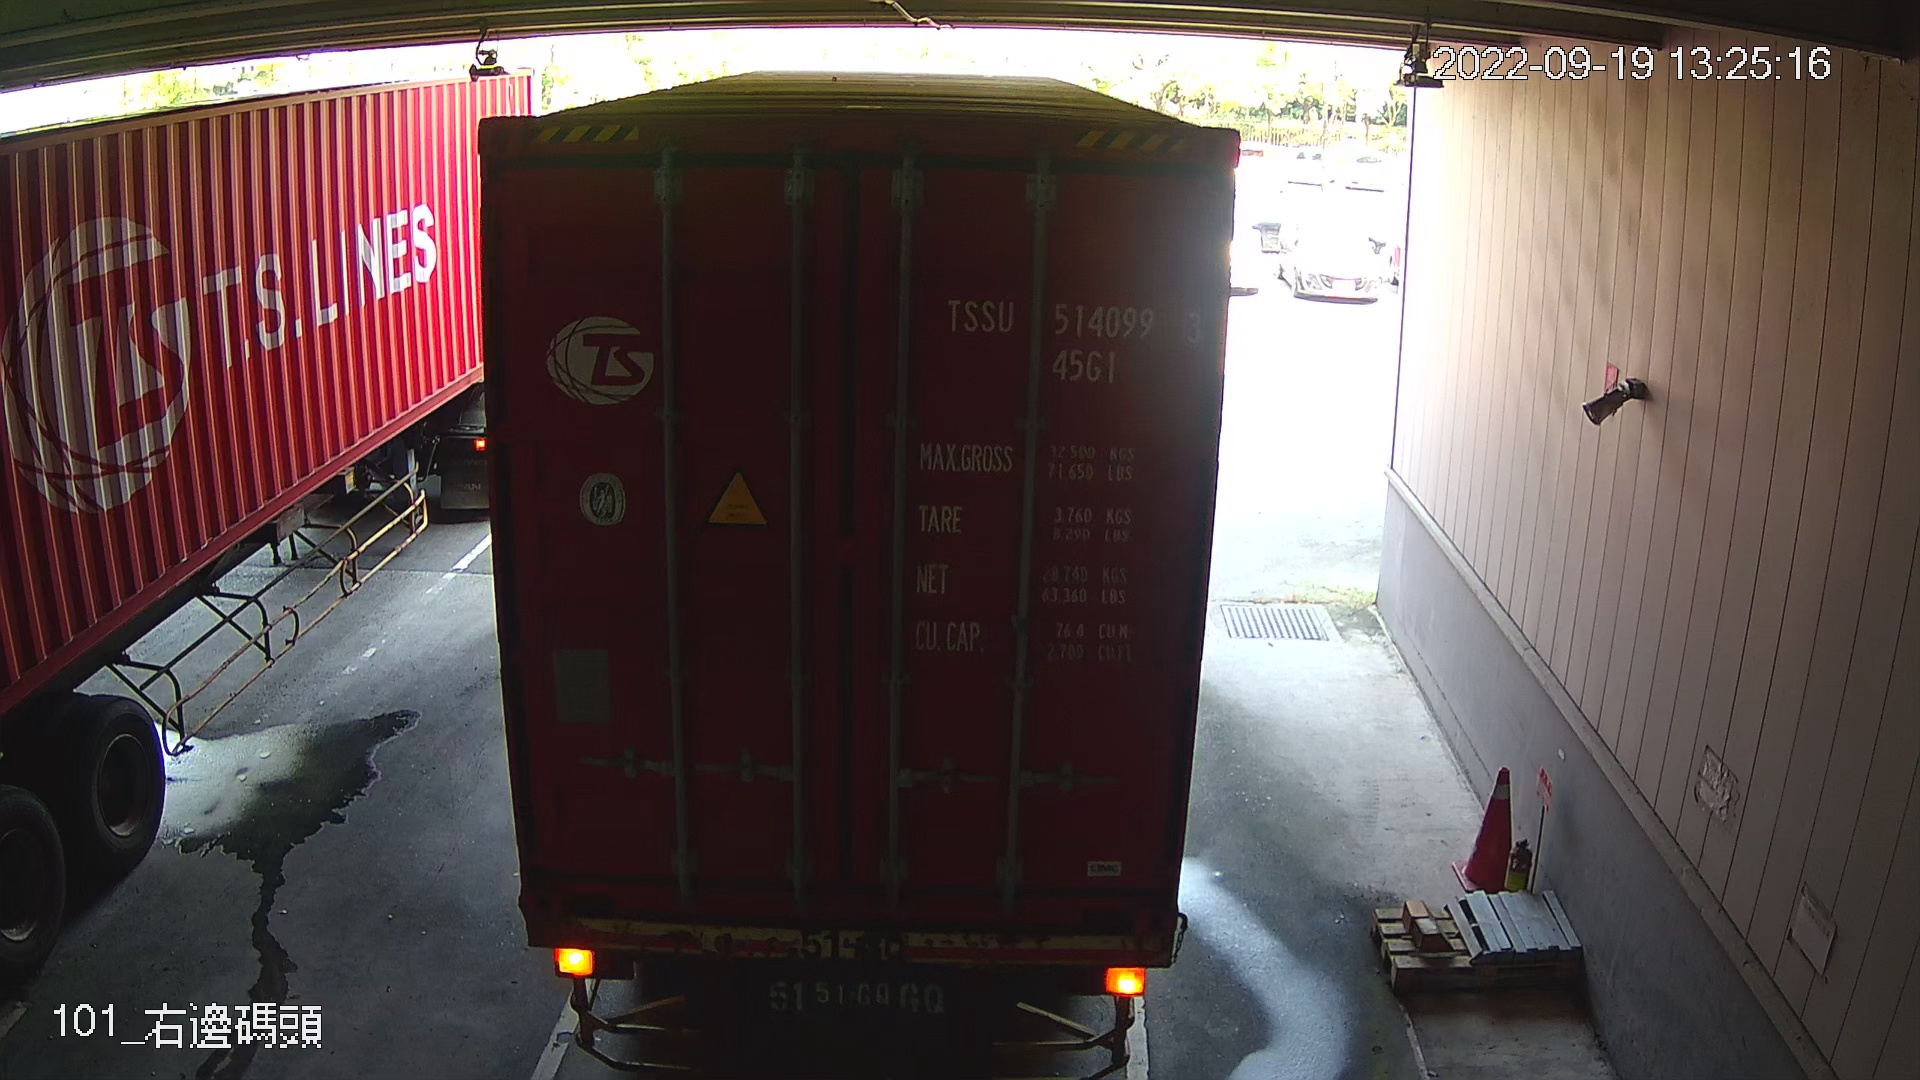container: (928, 286, 1215, 397)
